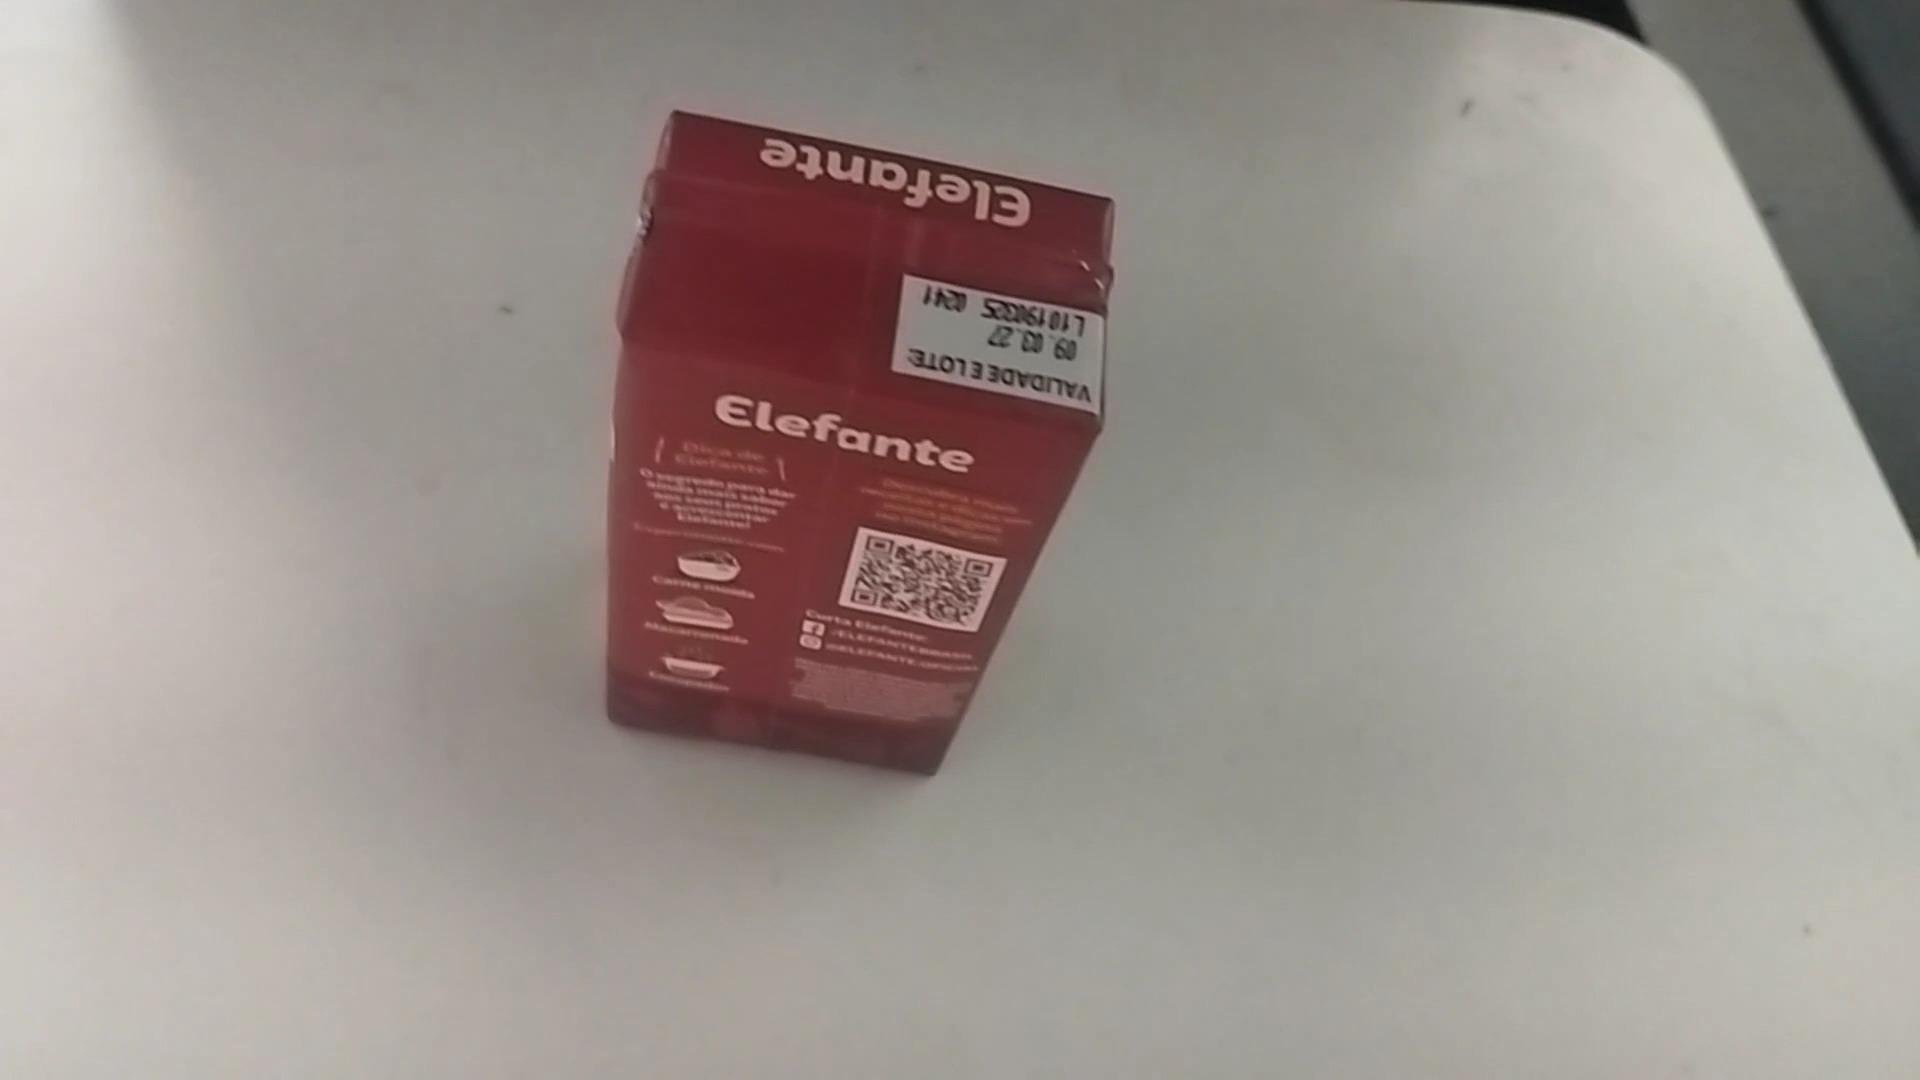tomate: (595, 96, 1158, 785)
